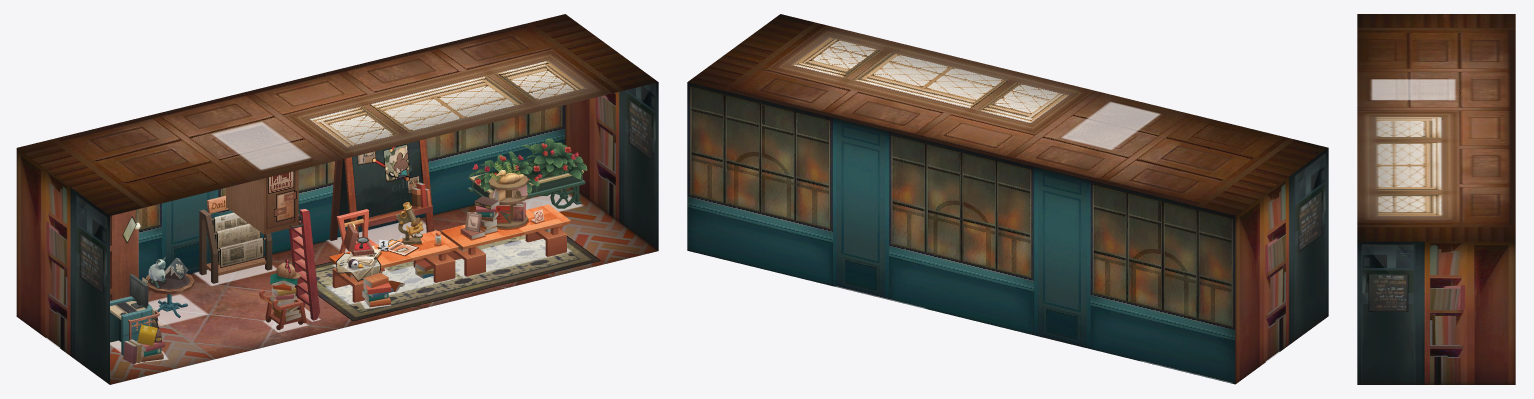
Rendered from bookshop.glb.
3 renders of one model, left to right at view 1: azimuth 30°, elevation 25°; view 2: azimuth 150°, elevation 25°; view 3: azimuth 270°, elevation 25°, orthographic. The views are drawn at different scales.
Visible parts, largest first — view 1: ROOM_room, ROOM_floor, furni_bookshop_carpet_01, furni_bookshop_blackboard_01, furni_bookshop_ladder_01, furni_bookshop_desk_02.001, furni_bookshop_desk_01, furni_bookshop_counter_01, furni_bookshop_festoon_02, shadow_02.001, furni_bookshop_bookcase_01, furni_bookshop_newspaperRack_02 (+16 smaller); view 2: ROOM_room, shadow_02.001, ROOM_LDoor, furni_bookshop_ladder_01; view 3: ROOM_room, ROOM_RDoor, shadow_02.001.
Part boxes in pixels (x1,y1,x2,y2): ROOM_room: (16, 14, 658, 384); ROOM_floor: (110, 187, 657, 384); furni_bookshop_carpet_01: (303, 234, 600, 321); furni_bookshop_blackboard_01: (329, 139, 434, 240); furni_bookshop_ladder_01: (219, 125, 319, 330); furni_bookshop_desk_02.001: (441, 170, 570, 276); furni_bookshop_desk_01: (329, 202, 458, 307); furni_bookshop_counter_01: (110, 274, 163, 363); furni_bookshop_festoon_02: (468, 138, 587, 193); shadow_02.001: (212, 122, 310, 169); furni_bookshop_bookcase_01: (62, 175, 138, 300); furni_bookshop_newspaperRack_02: (212, 212, 263, 267); ROOM_room: (687, 14, 1328, 384); shadow_02.001: (1061, 102, 1160, 149); ROOM_LDoor: (1295, 250, 1314, 339); furni_bookshop_ladder_01: (1068, 107, 1153, 143); ROOM_room: (1357, 14, 1515, 384); ROOM_RDoor: (1380, 319, 1413, 384); shadow_02.001: (1371, 79, 1455, 100).
Bounding box in the file's own units: 7.53 × 2.21 × 2.25.
6 materials, 6 textured.
